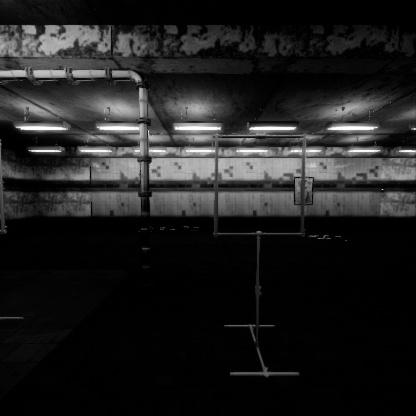gate: (214, 178, 314, 281)
